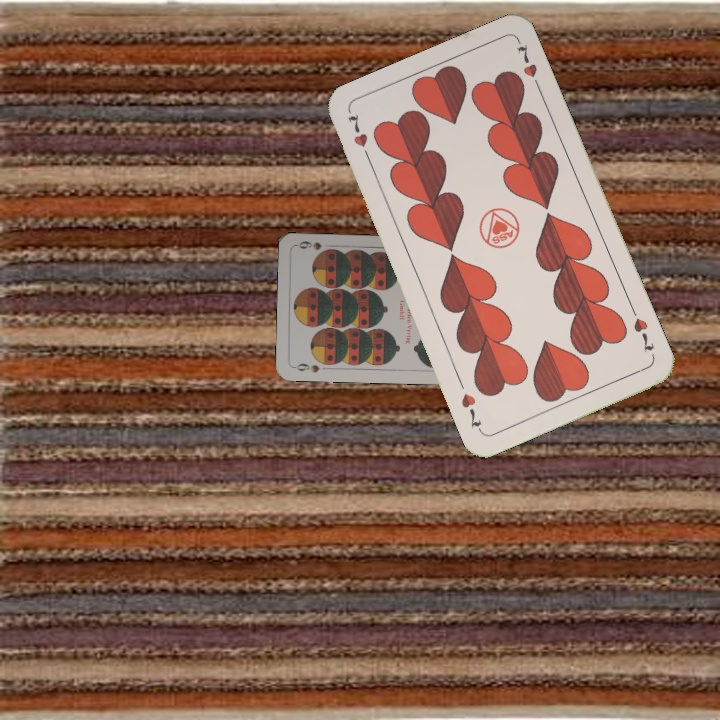H7: (344, 108, 374, 165), (627, 303, 657, 355)
S9: (290, 359, 322, 375)
